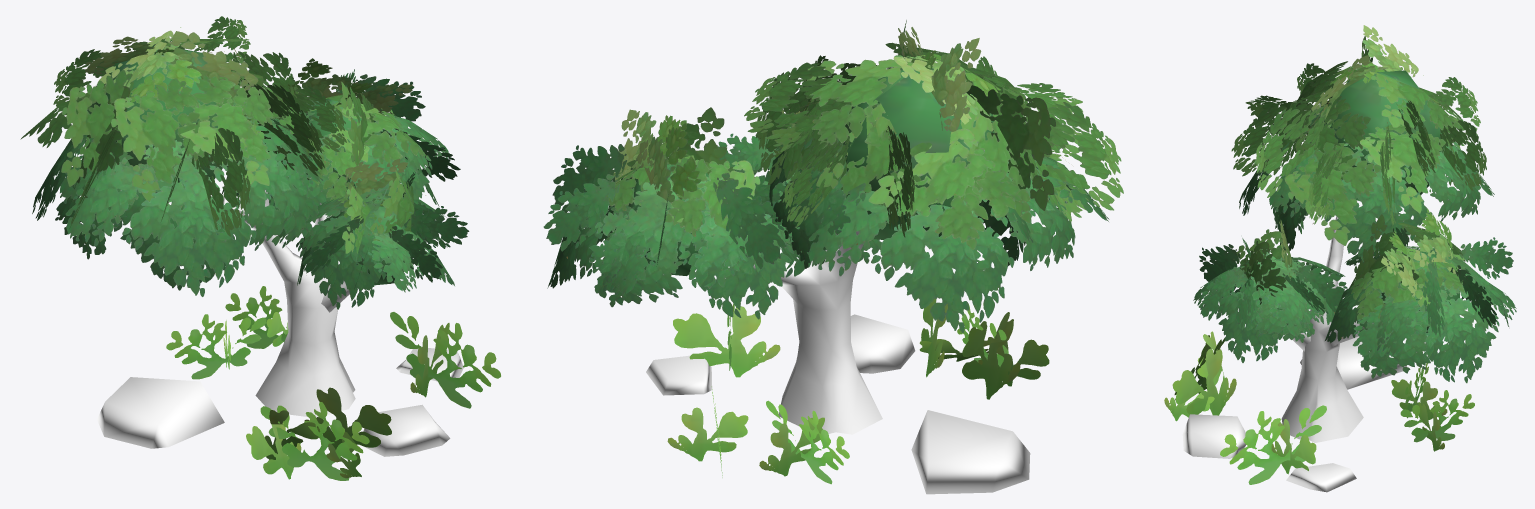
File: P_plant_1308.fbx
3 views of the same model, side by side, from view 1: azimuth 30°, elevation 25°; view 2: azimuth 150°, elevation 25°; view 3: azimuth 270°, elevation 25° (orthographic). The views are drawn at different scales.
Parts seen in each view (by area): view 1: S_plant_1308_b, S_plant_1308_a; view 2: S_plant_1308_b, S_plant_1308_a; view 3: S_plant_1308_b, S_plant_1308_a.
Boxes of the visible parts, x1=… form: S_plant_1308_b: x1=20, y1=16, x2=500, y2=480; S_plant_1308_a: x1=97, y1=190, x2=463, y2=456; S_plant_1308_b: x1=543, y1=20, x2=1123, y2=484; S_plant_1308_a: x1=646, y1=231, x2=1030, y2=494; S_plant_1308_b: x1=1164, y1=25, x2=1516, y2=484; S_plant_1308_a: x1=1182, y1=216, x2=1406, y2=492.
Size of the model in its own units: 1.8 by 1.6 by 1.5.
2 materials, 1 textured.
